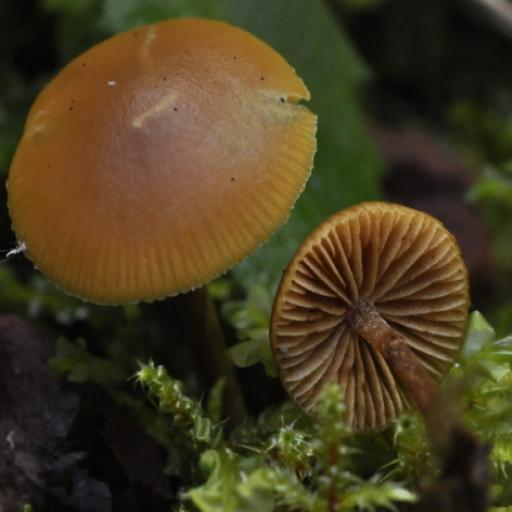mushroom: (0, 0, 340, 441), (0, 0, 1, 1)
